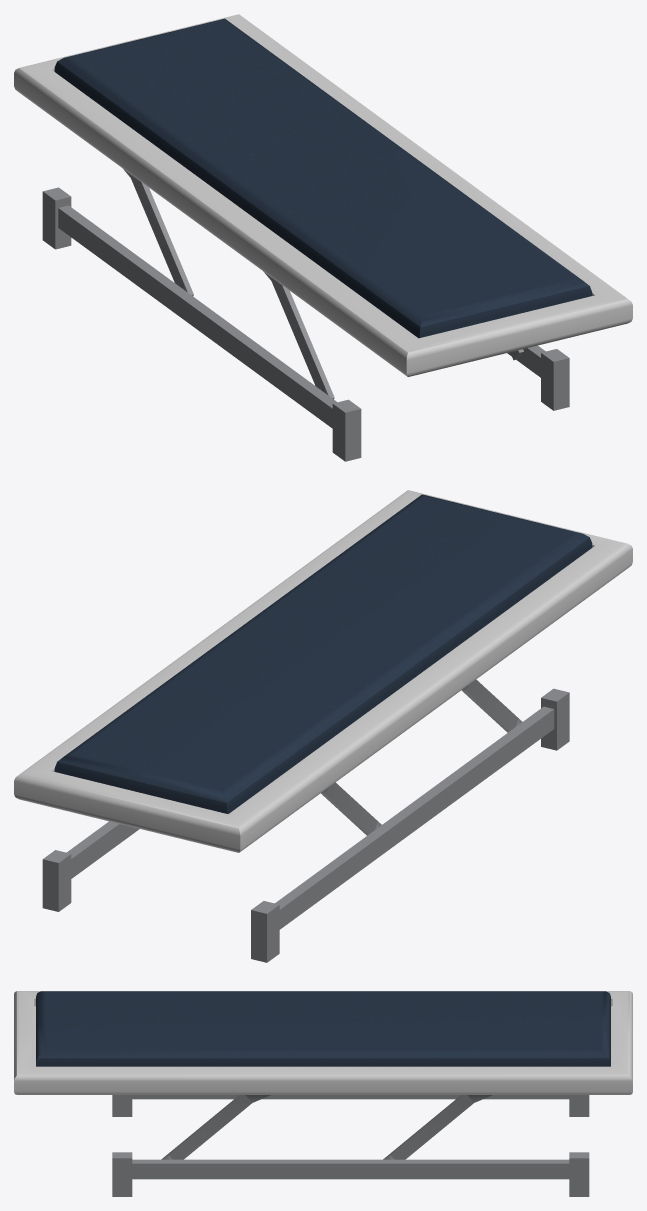
Rendered from MedicalBed_obj.fbx.
3 views of the same model, one above another, from view 1: azimuth 30°, elevation 25°; view 2: azimuth 150°, elevation 25°; view 3: azimuth 270°, elevation 25° (orthographic). The views are drawn at different scales.
Parts seen in each view (by area): view 1: MedicalBed_obj; view 2: MedicalBed_obj; view 3: MedicalBed_obj.
Part boxes in pixels (left/top/right/bottom): MedicalBed_obj: left=14, top=14, right=632, bottom=461; MedicalBed_obj: left=14, top=490, right=632, bottom=962; MedicalBed_obj: left=14, top=991, right=632, bottom=1196.
Size of the model in its own units: 1.49 by 1.06 by 4.48.
